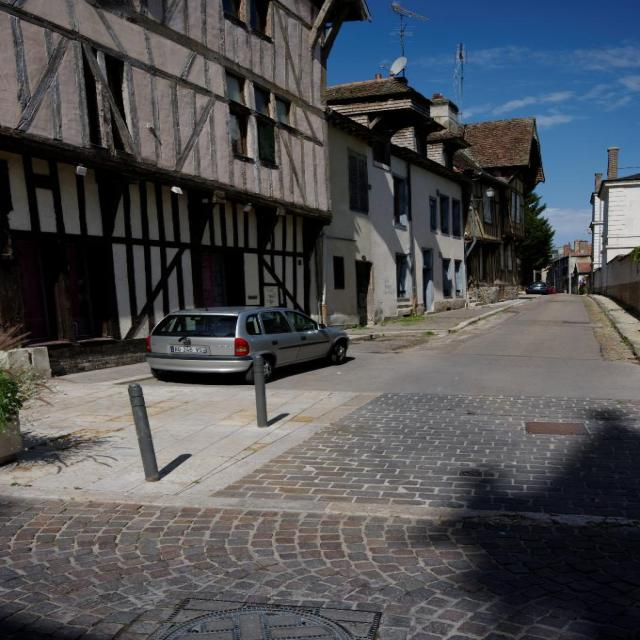car: (521, 279, 552, 294)
